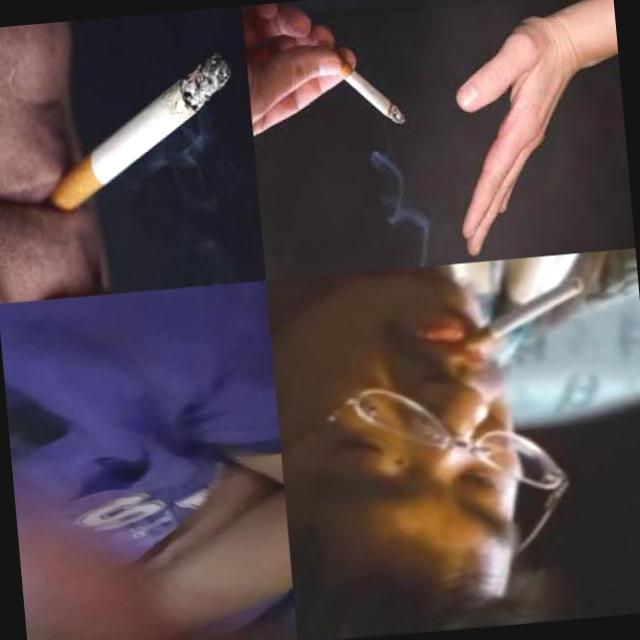smoke: (38, 50, 240, 212), (456, 276, 590, 355), (320, 38, 405, 131)
